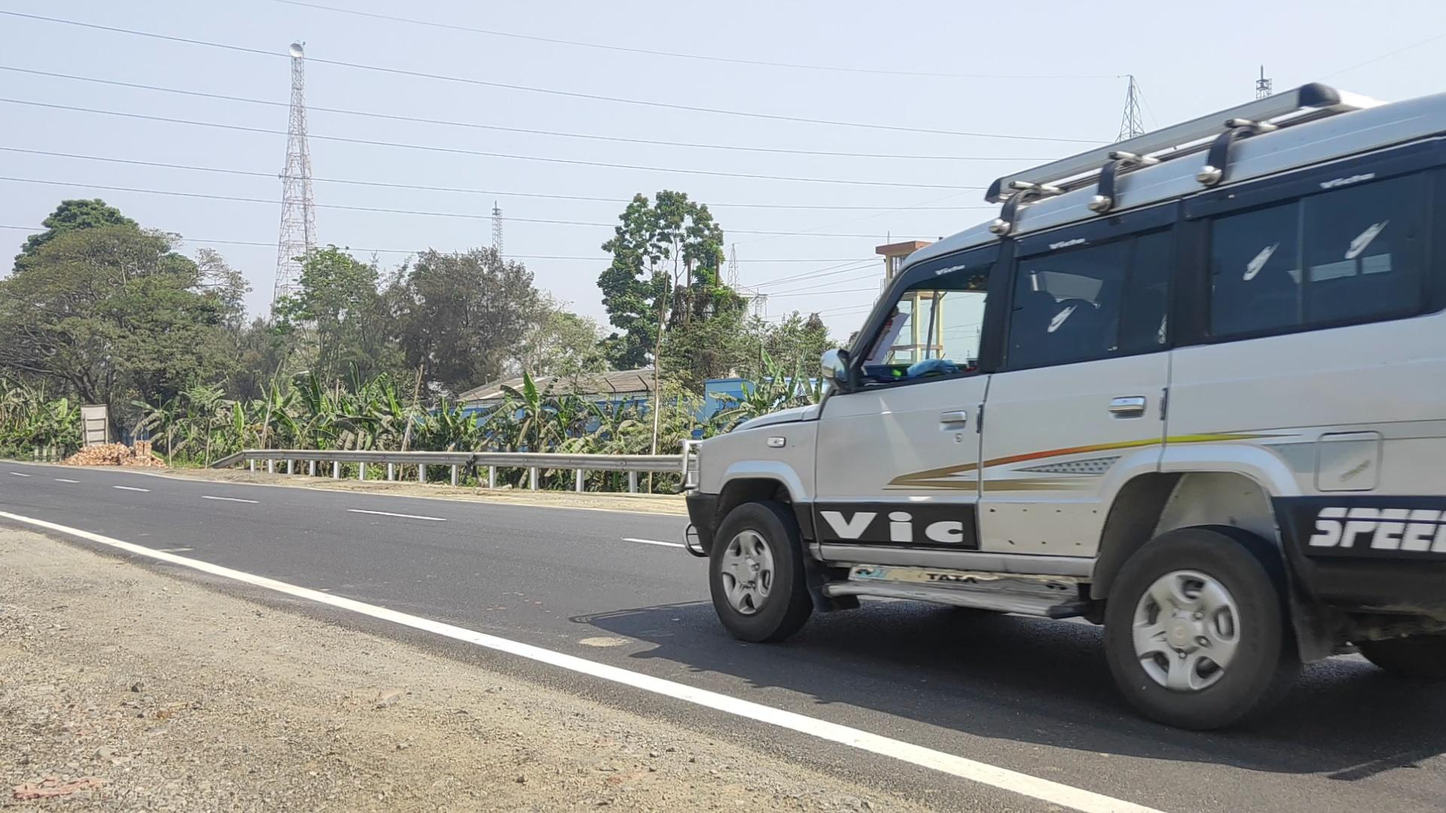car: (679, 83, 1446, 732)
